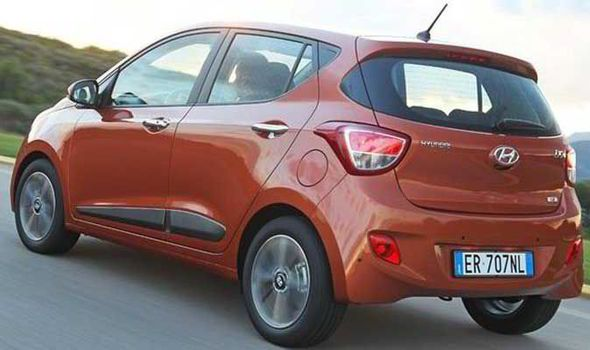Carro: (9, 19, 590, 339)
